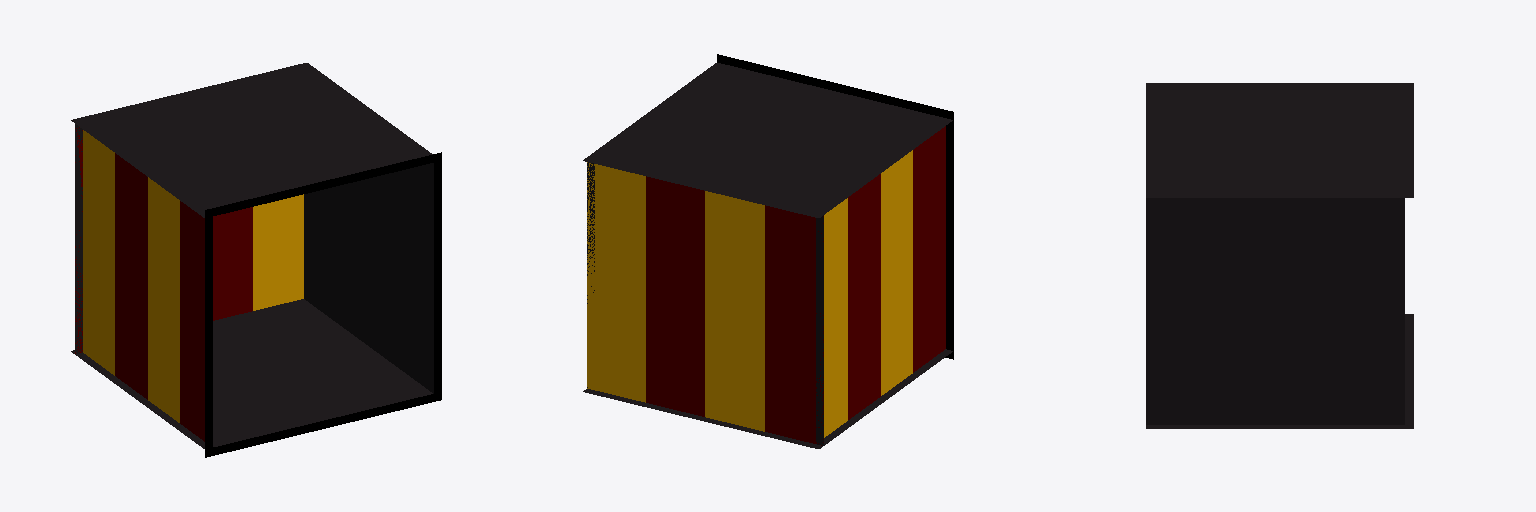
The model's file is box-streifen2.obj.
3 views of the same model, side by side, from view 1: azimuth 30°, elevation 25°; view 2: azimuth 150°, elevation 25°; view 3: azimuth 270°, elevation 25° (orthographic).
Visible parts, largest first — view 1: cornell-box-water_cornell-box-water_Khaki, cornell-box-water_cornell-box-water_yellow.001, cornell-box-water_cornell-box-water_nicered, cornell-box-water_cornell-box-water_black, cornell-box-water_cornell-box-water_blue, cornell-box-water_cornell-box-water_lightgreen; view 2: cornell-box-water_cornell-box-water_Khaki, cornell-box-water_cornell-box-water_blue, cornell-box-water_cornell-box-water_lightgreen, cornell-box-water_cornell-box-water_nicered, cornell-box-water_cornell-box-water_yellow.001, cornell-box-water_cornell-box-water_black; view 3: cornell-box-water_cornell-box-water_Khaki.
Boxes of the visible parts, box(x1,y1,x2,y2) form: cornell-box-water_cornell-box-water_Khaki: box(71, 63, 433, 448); cornell-box-water_cornell-box-water_yellow.001: box(83, 130, 179, 422); cornell-box-water_cornell-box-water_nicered: box(115, 153, 204, 441); cornell-box-water_cornell-box-water_black: box(205, 152, 441, 457); cornell-box-water_cornell-box-water_blue: box(253, 194, 303, 310); cornell-box-water_cornell-box-water_lightgreen: box(75, 127, 252, 353); cornell-box-water_cornell-box-water_Khaki: box(583, 63, 952, 448); cornell-box-water_cornell-box-water_blue: box(587, 162, 764, 431); cornell-box-water_cornell-box-water_lightgreen: box(646, 176, 823, 445); cornell-box-water_cornell-box-water_nicered: box(848, 126, 945, 419); cornell-box-water_cornell-box-water_yellow.001: box(824, 150, 912, 437); cornell-box-water_cornell-box-water_black: box(717, 54, 953, 359); cornell-box-water_cornell-box-water_Khaki: box(1146, 83, 1413, 428).
Size of the model in its own units: 5.9 by 5.9 by 5.8.